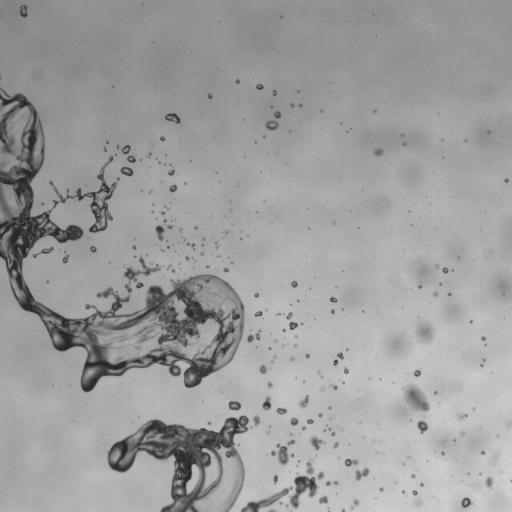droplet: (49, 156, 116, 233), (402, 384, 429, 413), (270, 440, 294, 465), (416, 322, 434, 343), (309, 436, 325, 450), (355, 468, 369, 480), (165, 113, 180, 123), (417, 420, 428, 433), (155, 225, 164, 240), (120, 166, 133, 176), (262, 396, 271, 410), (228, 401, 241, 410), (344, 458, 358, 466), (461, 497, 472, 507), (299, 395, 308, 407), (485, 476, 493, 488), (491, 452, 500, 462), (20, 5, 27, 17), (289, 321, 298, 330), (252, 415, 260, 425), (350, 499, 358, 509), (276, 407, 287, 414), (374, 148, 383, 156), (259, 365, 268, 373), (457, 413, 467, 420), (318, 496, 328, 503), (169, 184, 177, 192), (166, 265, 174, 272), (290, 418, 298, 425), (62, 254, 68, 263), (168, 168, 174, 175), (286, 312, 292, 319), (414, 369, 420, 376), (90, 246, 96, 252), (442, 267, 448, 273), (291, 281, 297, 287), (256, 84, 263, 89), (214, 241, 219, 248), (330, 297, 337, 302), (255, 311, 262, 316), (506, 421, 511, 428), (414, 500, 421, 505), (267, 382, 272, 388), (331, 384, 337, 389), (307, 419, 313, 424), (273, 475, 277, 482), (433, 291, 438, 296), (333, 442, 338, 447), (412, 490, 417, 495), (185, 256, 190, 260), (344, 368, 348, 373), (460, 431, 464, 436), (235, 79, 239, 83), (160, 136, 164, 140), (504, 178, 508, 182), (224, 268, 228, 272), (254, 293, 258, 297), (481, 336, 485, 340), (290, 357, 294, 361), (320, 387, 324, 391), (318, 413, 322, 417), (301, 426, 305, 430), (411, 474, 415, 478), (379, 487, 383, 491), (208, 93, 211, 98), (147, 153, 150, 158), (167, 225, 172, 228), (273, 90, 276, 94), (160, 211, 164, 214), (132, 246, 136, 249), (435, 264, 439, 267), (418, 284, 421, 288), (331, 309, 334, 313), (331, 432, 335, 435), (341, 508, 345, 511), (163, 219, 166, 222), (200, 252, 203, 255), (306, 354, 309, 357), (481, 451, 484, 454), (420, 483, 423, 486), (291, 103, 293, 106), (403, 142, 405, 145), (149, 190, 151, 193), (41, 202, 43, 205), (470, 320, 472, 323), (283, 329, 285, 332), (274, 339, 276, 342), (294, 344, 296, 347), (456, 387, 458, 390), (434, 391, 437, 393), (328, 407, 331, 409), (208, 421, 210, 424), (441, 452, 444, 454), (327, 509, 330, 511), (299, 104, 301, 106), (195, 227, 197, 229), (179, 228, 181, 230), (225, 231, 227, 233), (277, 313, 279, 315), (119, 347, 121, 349), (483, 359, 485, 361), (328, 428, 330, 430), (402, 491, 404, 493)
ligament: (0, 87, 244, 390), (108, 417, 248, 511), (240, 459, 324, 511), (265, 111, 280, 130), (121, 145, 135, 162), (33, 247, 53, 257), (247, 330, 260, 342), (333, 352, 343, 365), (325, 481, 338, 486), (187, 243, 194, 248), (317, 371, 322, 377), (268, 509, 275, 511)
